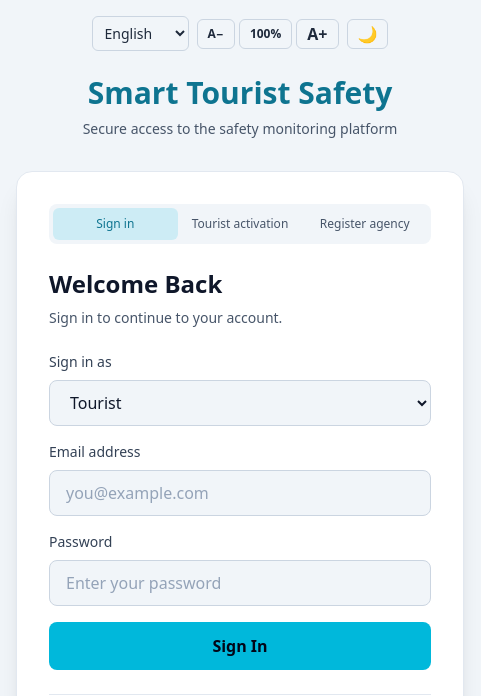
Test: language and text size controls › the login page can be switched to Hindi, and the choice is remembered
The image size is (481, 696).
Expected: the heading "Welcome Back" is shown, [49,267,222,300]
Select "हिन्दी" in the dropdown named "Language" at {"x": 140, "y": 34}, box [92,16,188,51]
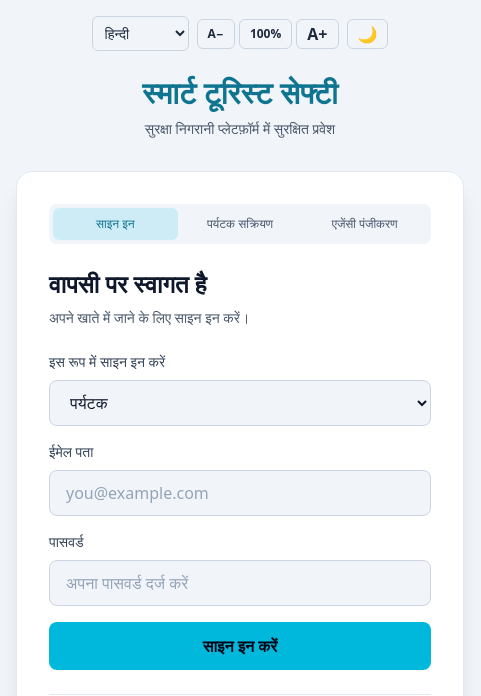
Expected: the heading "वापसी पर स्वागत है" is shown, [49,267,206,300]
Expected: the button "साइन इन करें" is shown, [49,622,431,670]
